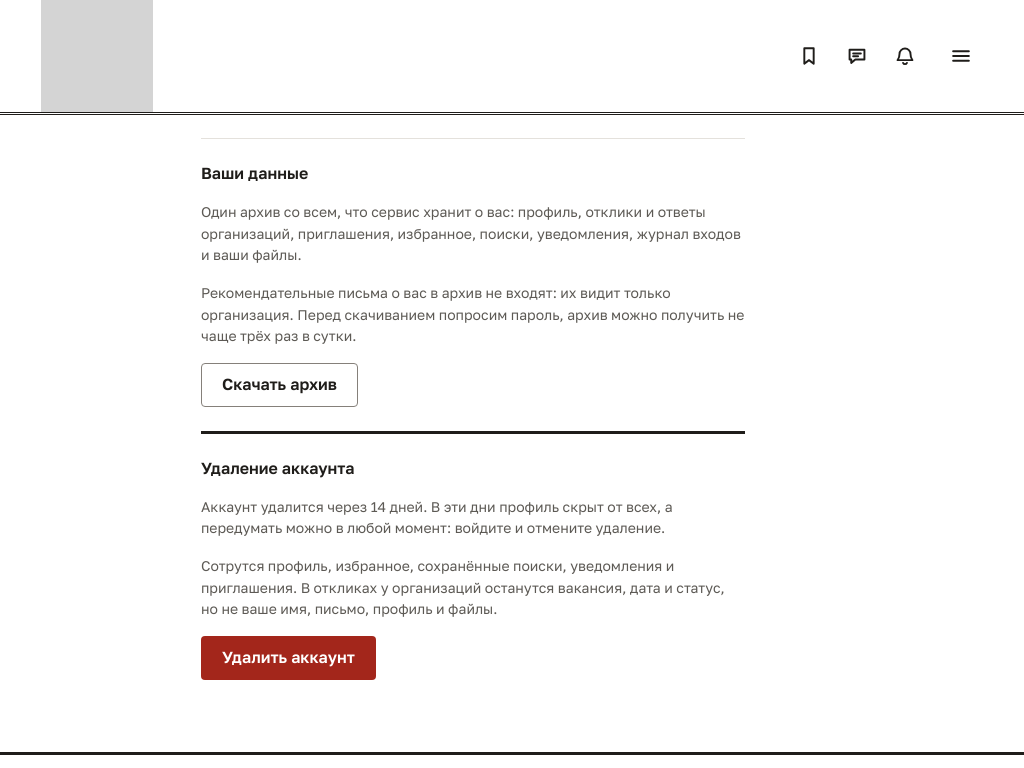
Test: download of own data › ask for the password once, then download
(page scrolled)
Click the button "Скачать архив".
click(280, 385)  # box [201,363,358,407]
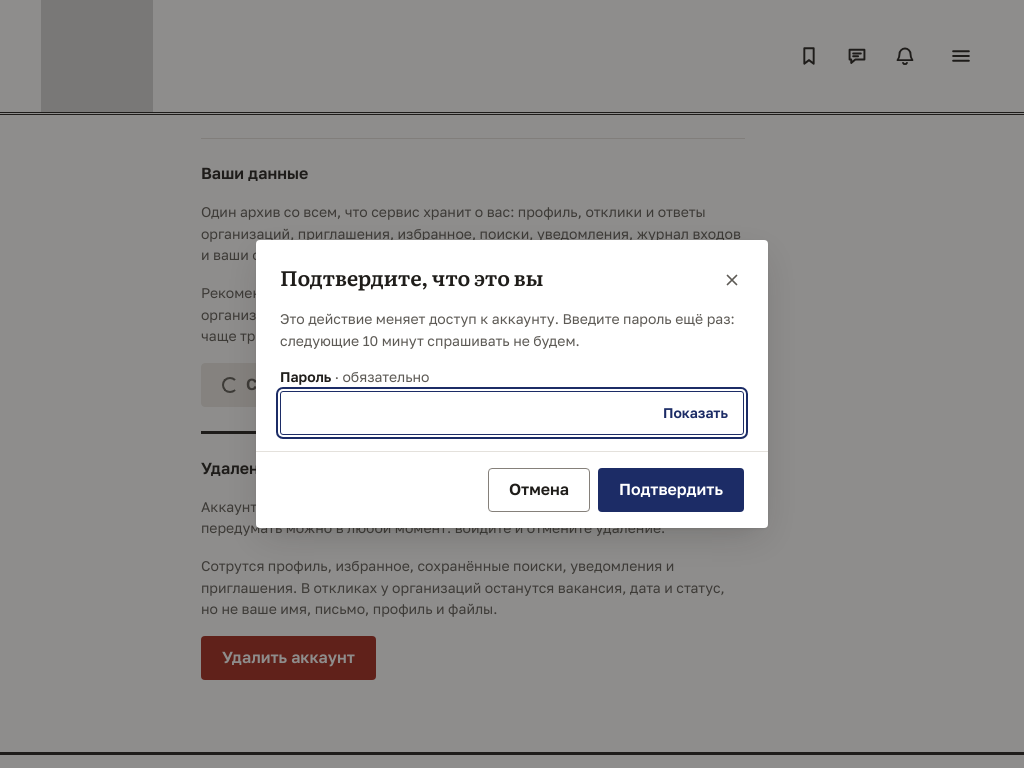
Type "correct horse battery" into the password field labelled "Пароль · обязательно".
click(512, 413); type("correct horse battery")  # box [280,391,744,435]
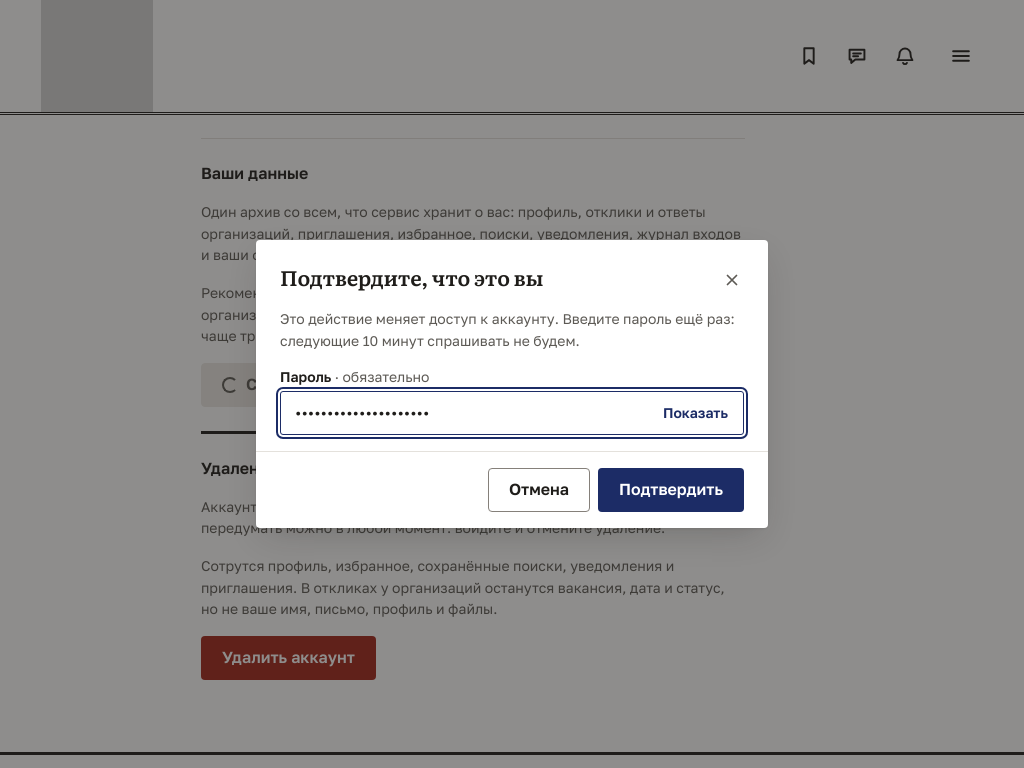
Click the button "Подтвердить".
click(671, 490)  # box [598,468,744,512]
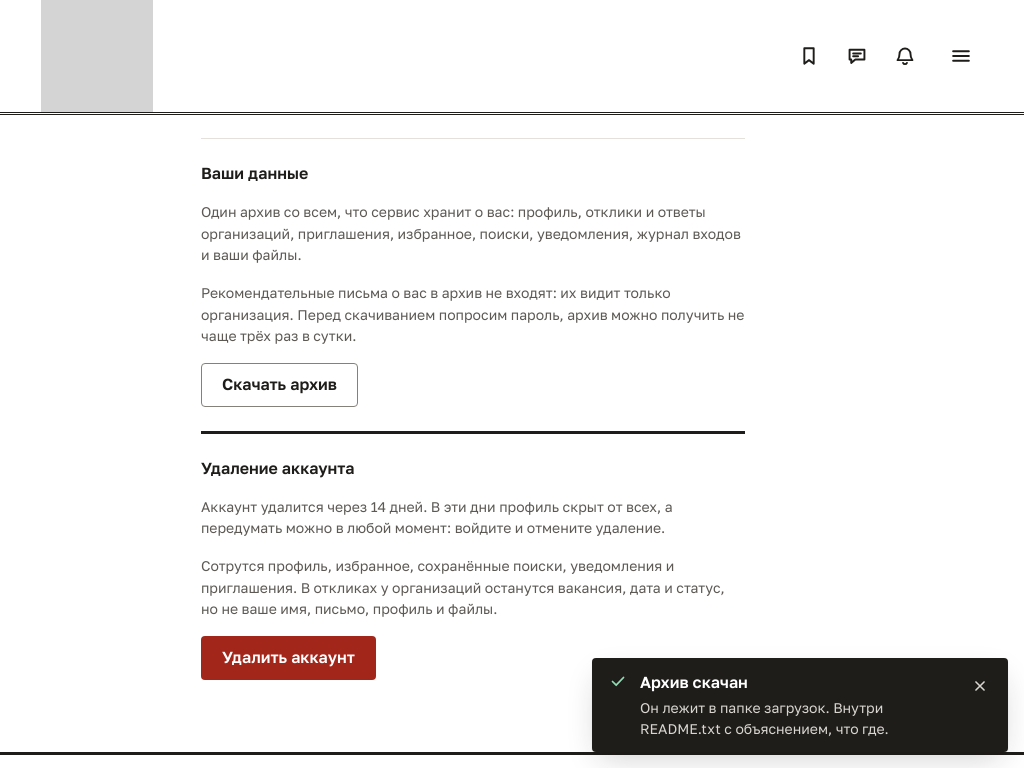
Expected: the text "Архив скачан" is shown, [640,672,748,692]
